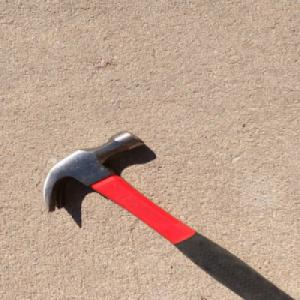Hammer: (40, 128, 293, 300)
